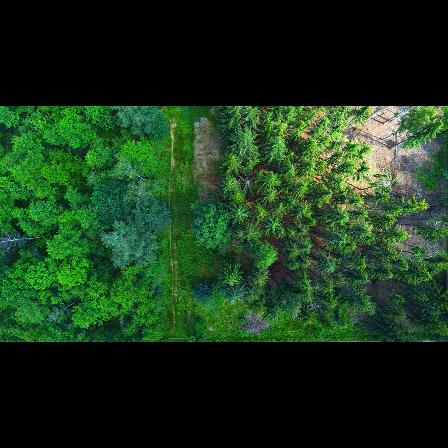Dead: (238, 303, 275, 333), (0, 226, 44, 249)
Sick: (236, 173, 259, 194)
